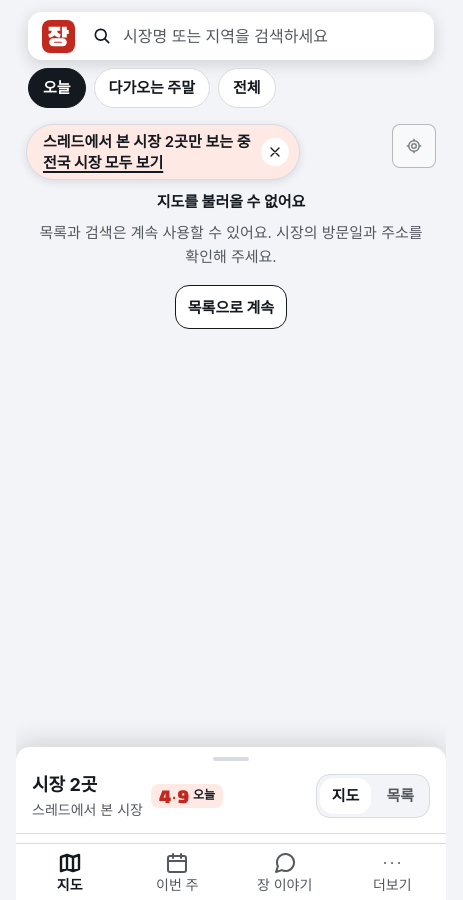
it: MarketExplorer › market set links from Threads › returns to the normal map from the chip
The width and height of the screenshot is (463, 900).
Click the button "스레드에서 본 시장 2곳만 보는 중 전국 시장 모두 보기": point(163, 152) [26, 124, 300, 180]
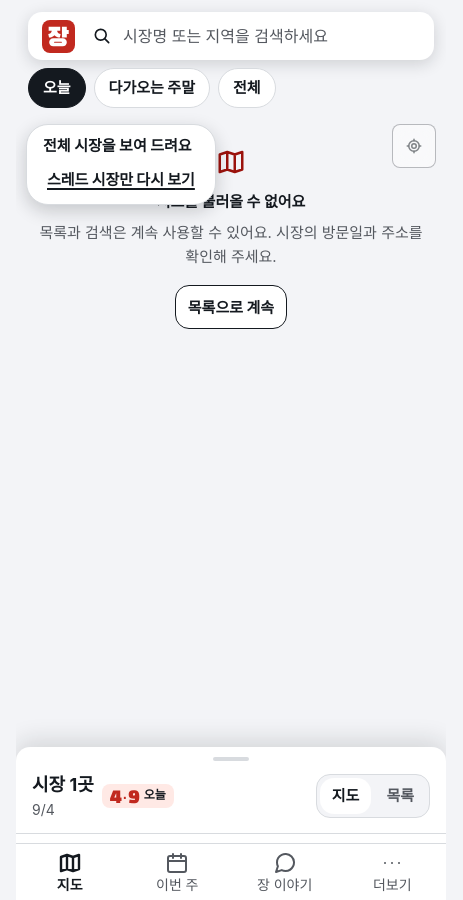
Now the button "스레드에서 본 시장" is gone
